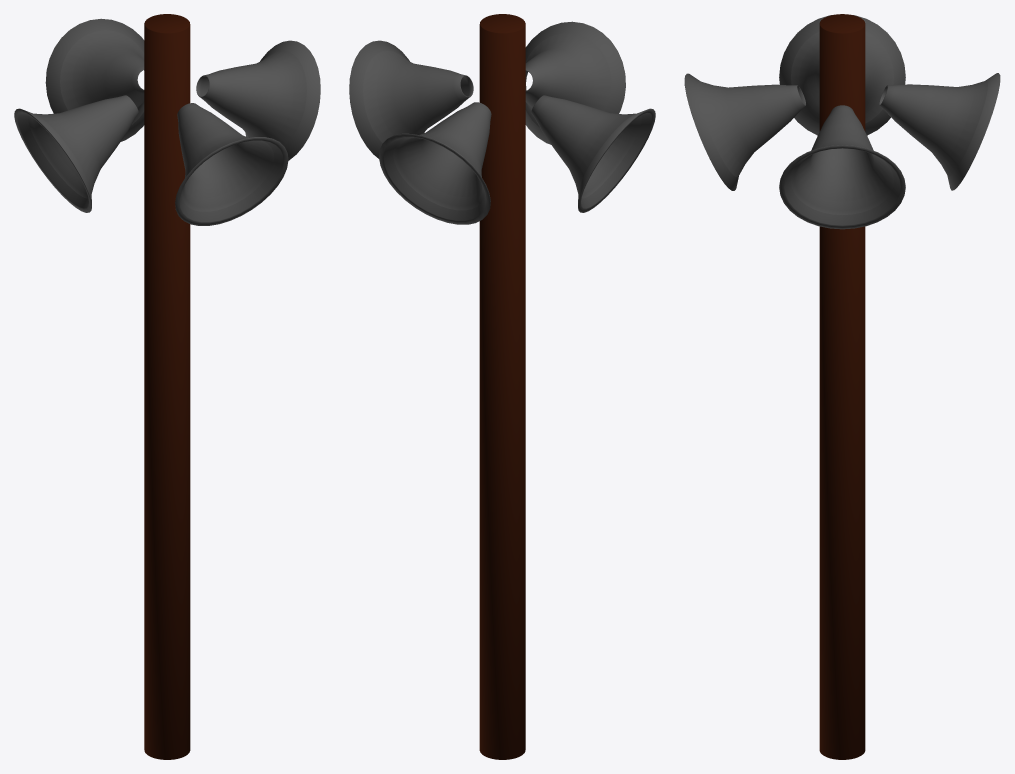
The model's file is Zvučnik.fbx.
3 views of the same model, side by side, from view 1: azimuth 30°, elevation 25°; view 2: azimuth 150°, elevation 25°; view 3: azimuth 270°, elevation 25° (orthographic).
Visible parts, largest first — view 1: Cylinder.001; view 2: Cylinder.001; view 3: Cylinder.001.
Part boxes in pixels (x1,y1,x2,y2): Cylinder.001: (14, 14, 320, 759); Cylinder.001: (349, 14, 655, 759); Cylinder.001: (684, 14, 1000, 759).
Size of the model in its own units: 1.46 by 3.7 by 1.46.
